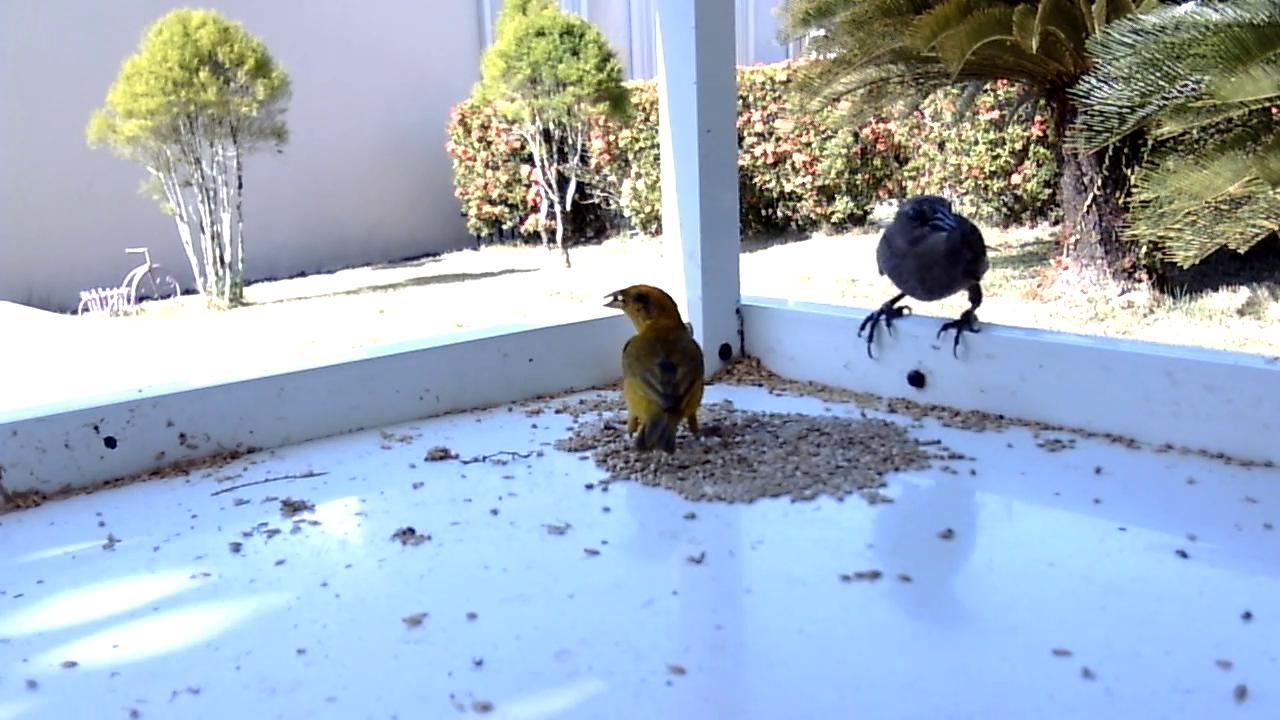canario_do_amazonas: (602, 283, 708, 458)
chupim: (855, 195, 1004, 362)
